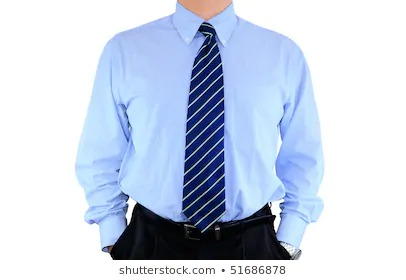F_belt: (138, 206, 278, 232)
F_shirt: (68, 7, 328, 241)
F_tie: (182, 16, 231, 234)
